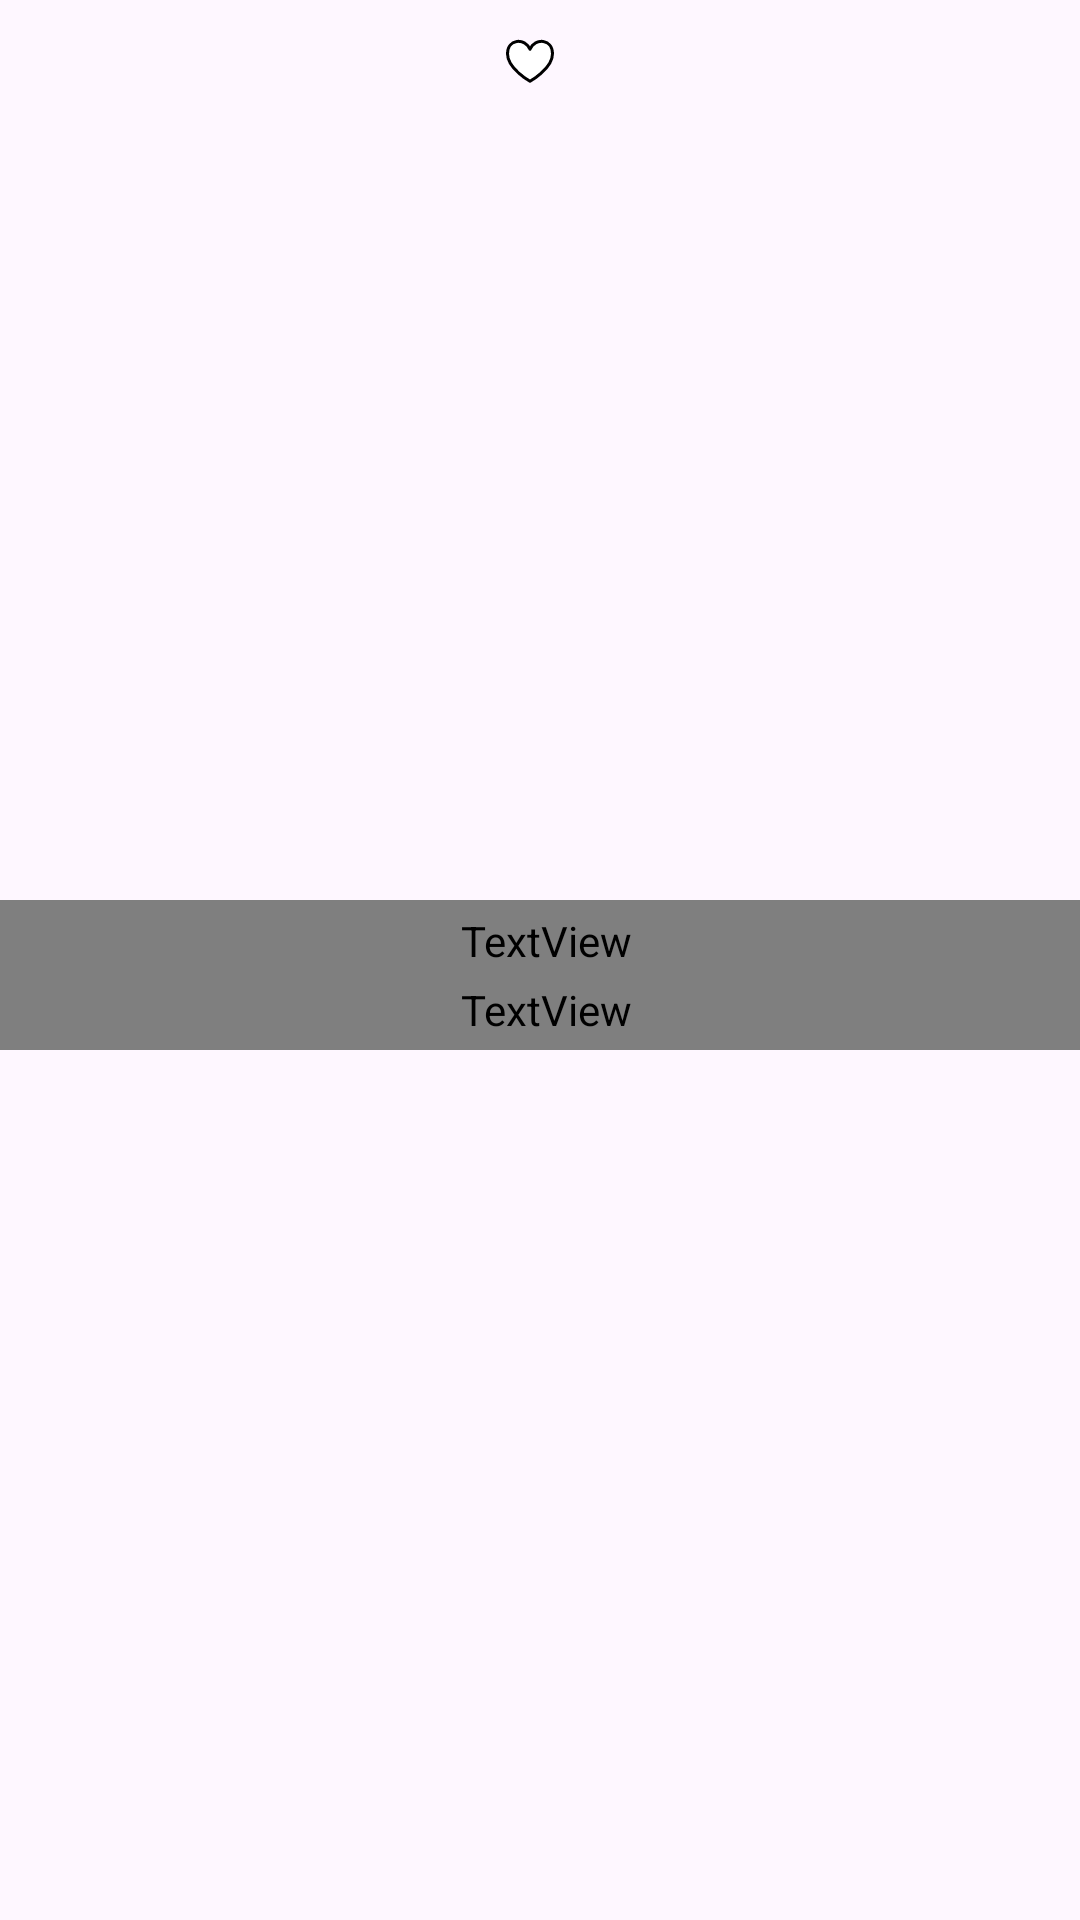

Icons on this 1080*1920 Android screen, each with the point to tap as point (x, y):
Favorite: point (530, 61)
